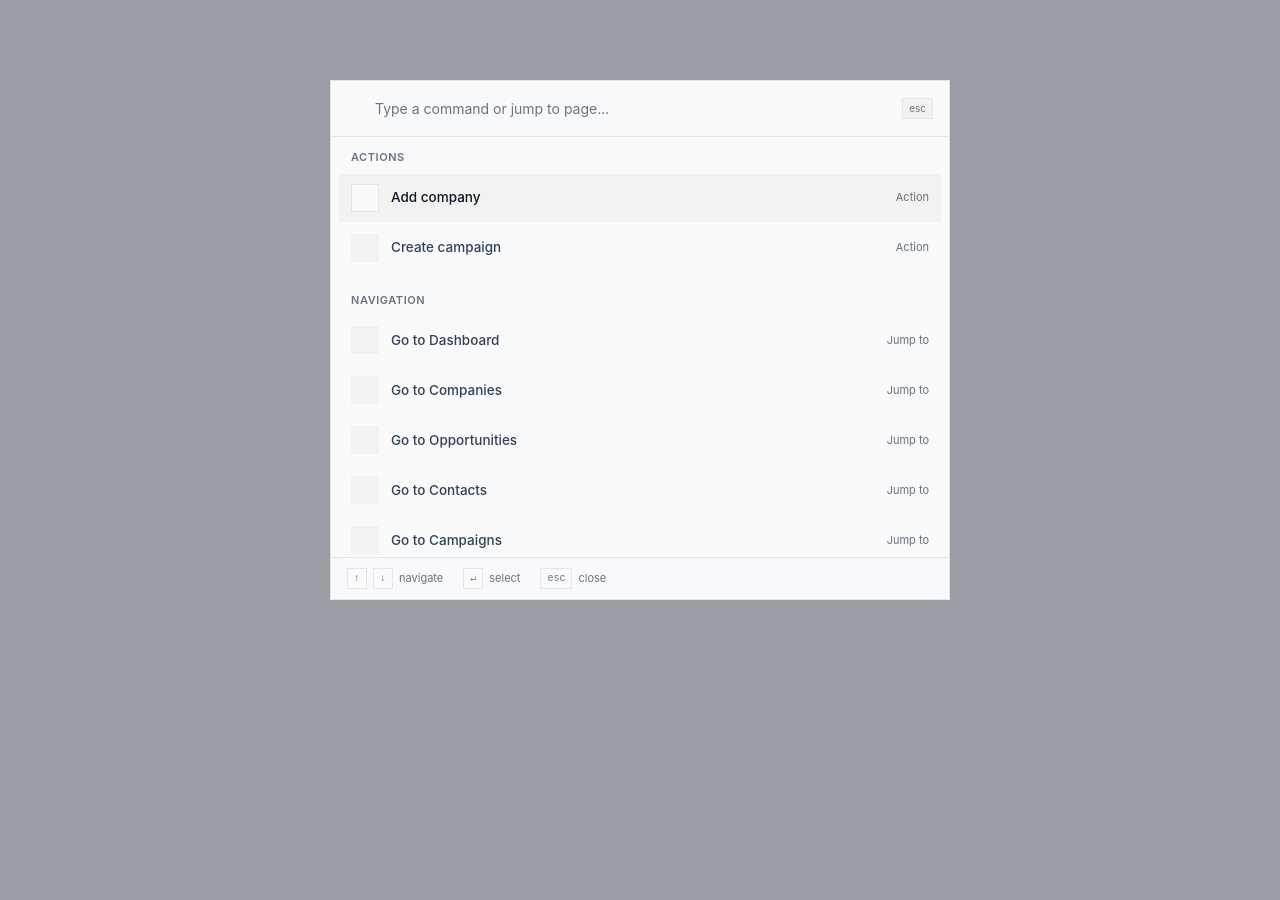
Test: CommandPalette › filters commands based on search query
Type "campaign" into the dropdown at (633, 108), box left=375, top=98, right=890, bottom=119
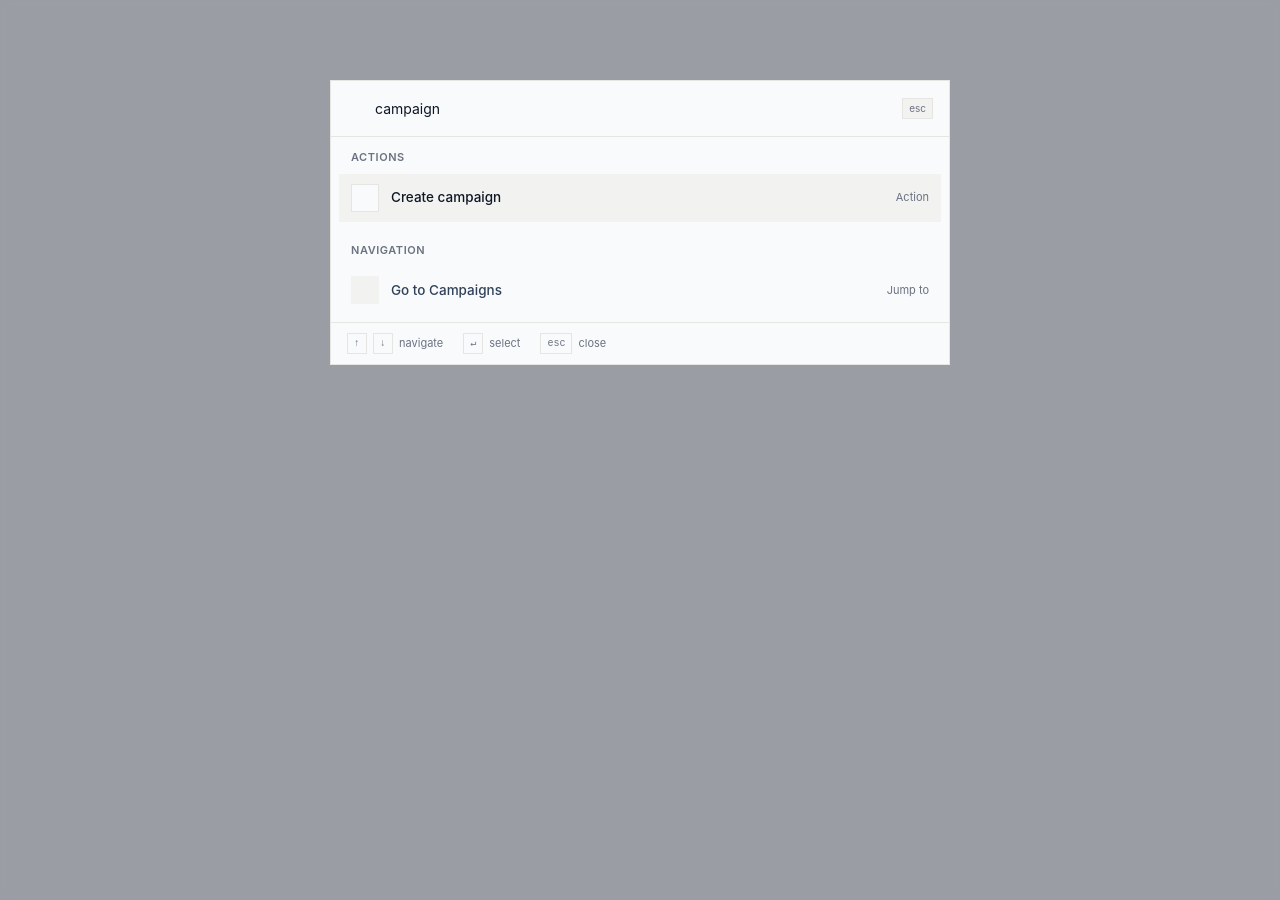
Expected: the option "Create campaign Action" is shown, left=339, top=174, right=941, bottom=222
Expected: the option "Go to Dashboard" is gone
